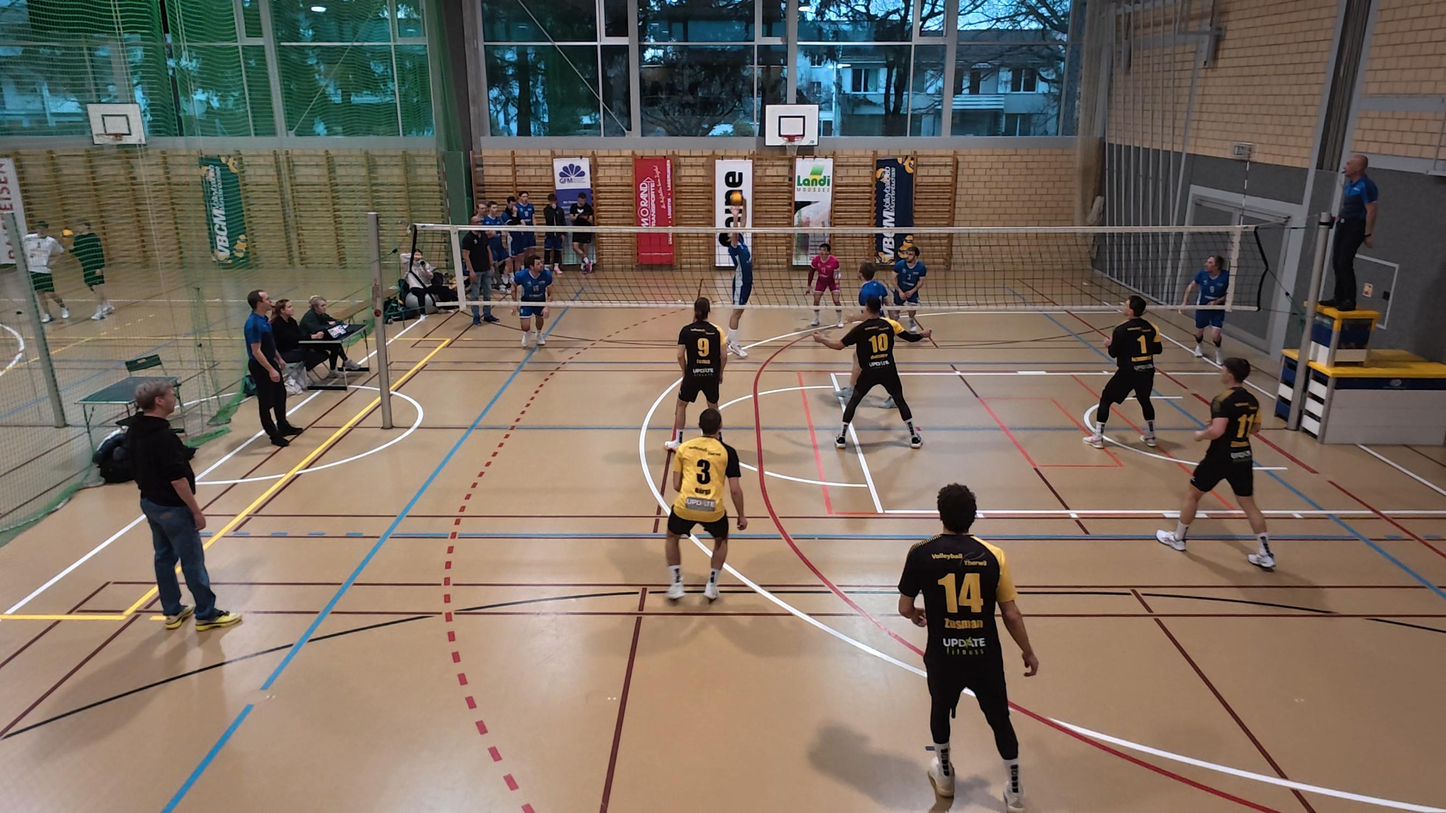alzata: (713, 205, 759, 360)
